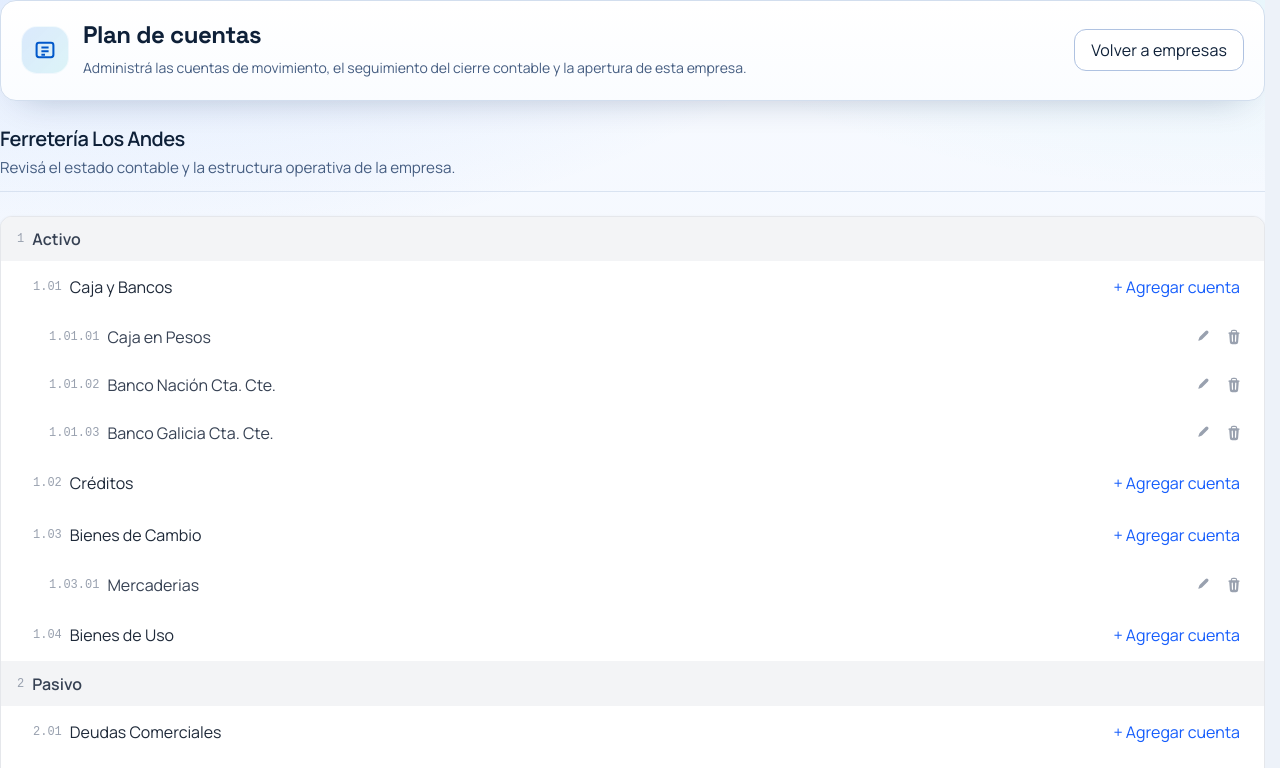
Test case: CompanyDetailPage › creates a movement account under a collective account
Expected: the text "Caja y Bancos" is shown, [70,274,172,298]
Click the button "+ Agregar cuenta" in the row of "Caja y Bancos" at coordinates (1177, 286), box [1105,270,1248,302]
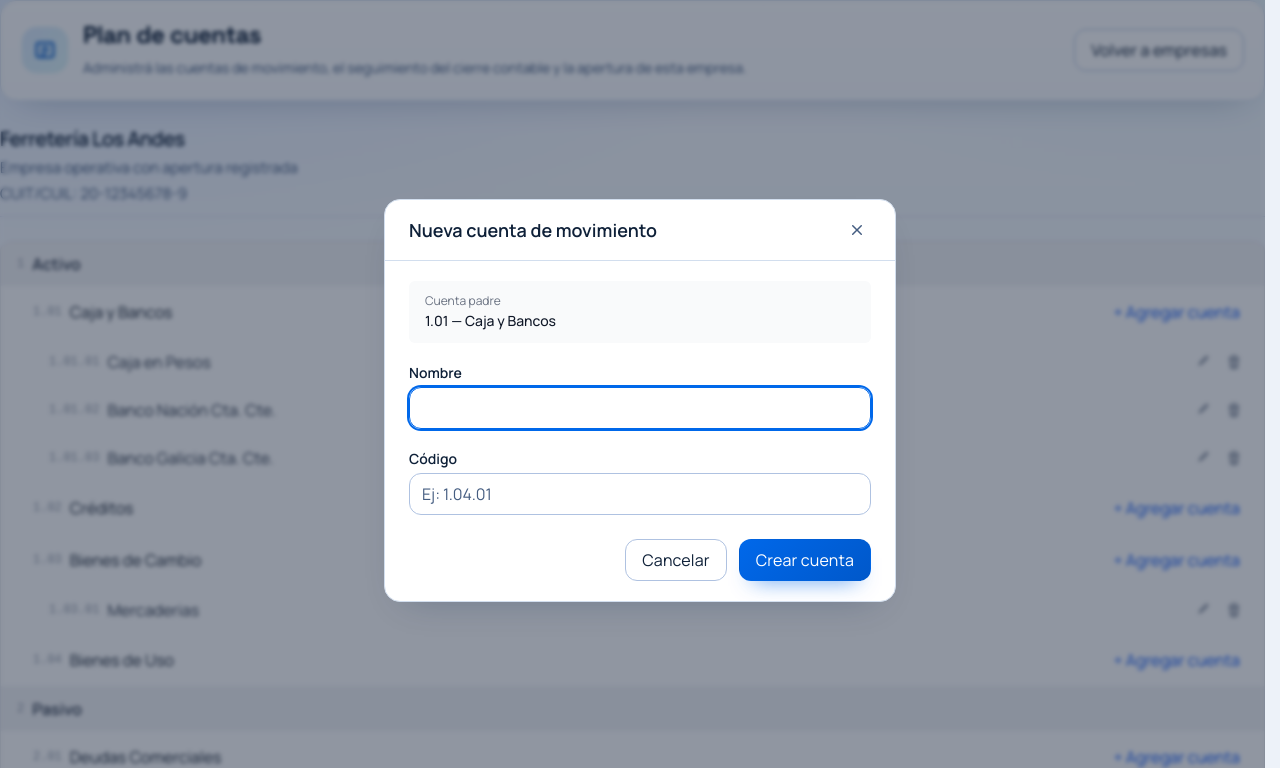
Type "Caja secundaria" into the field labelled "Nombre" at coordinates (640, 408), box [409,386,871,428]
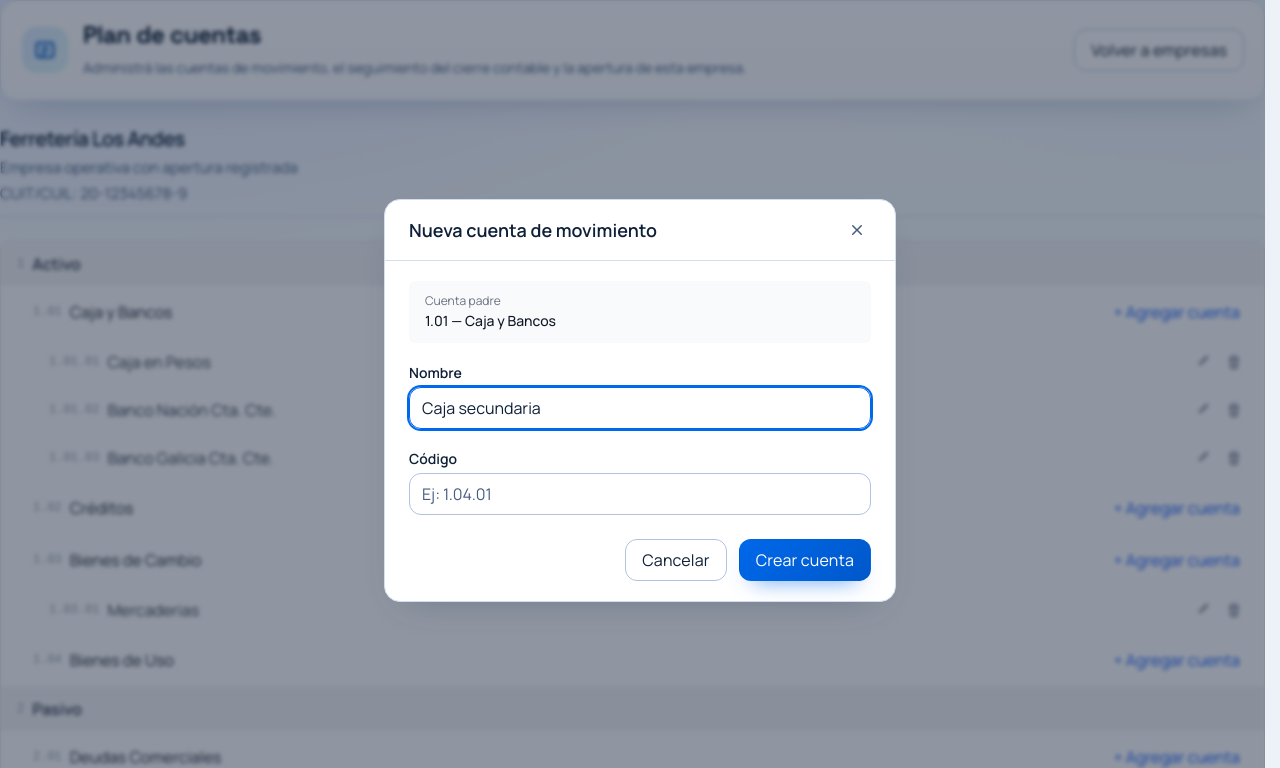
Type "1.01.03" into the field labelled "Código" at coordinates (640, 494), box [409,472,871,514]
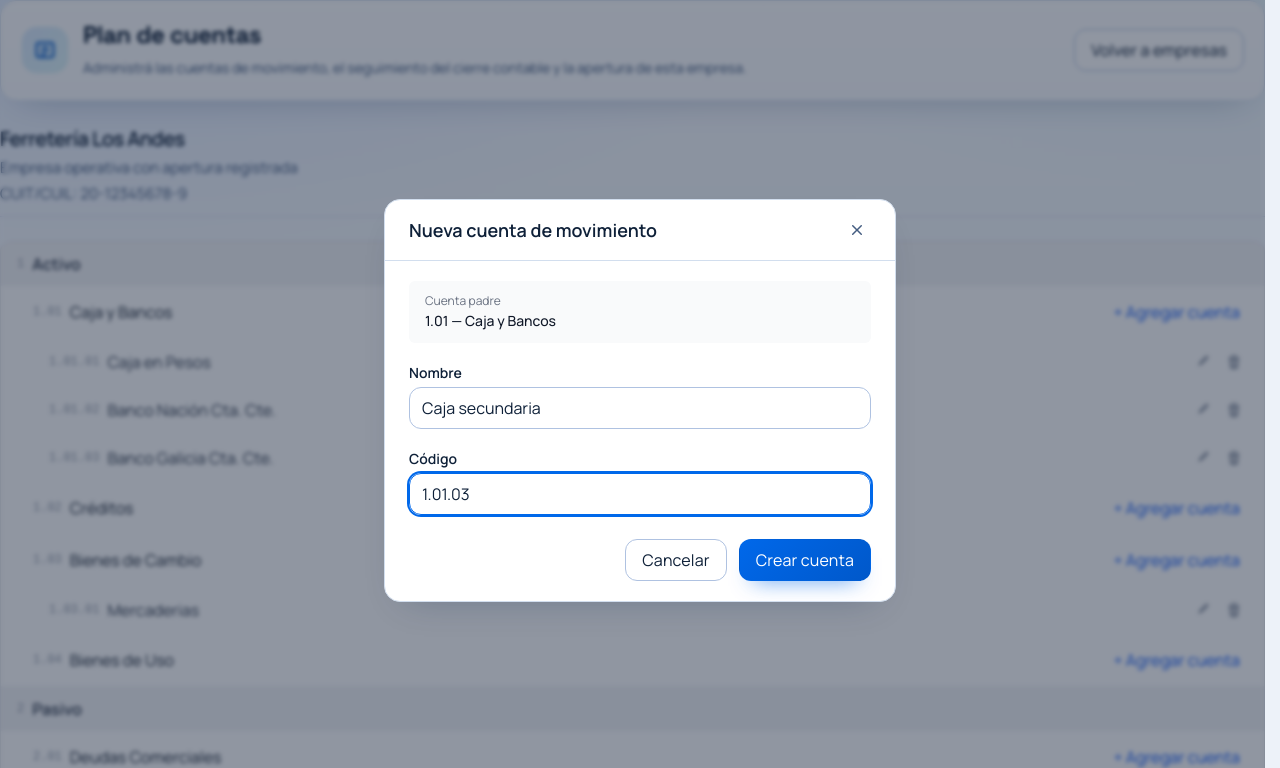
Click the button "Crear cuenta" at coordinates (805, 560), box [739,538,871,580]
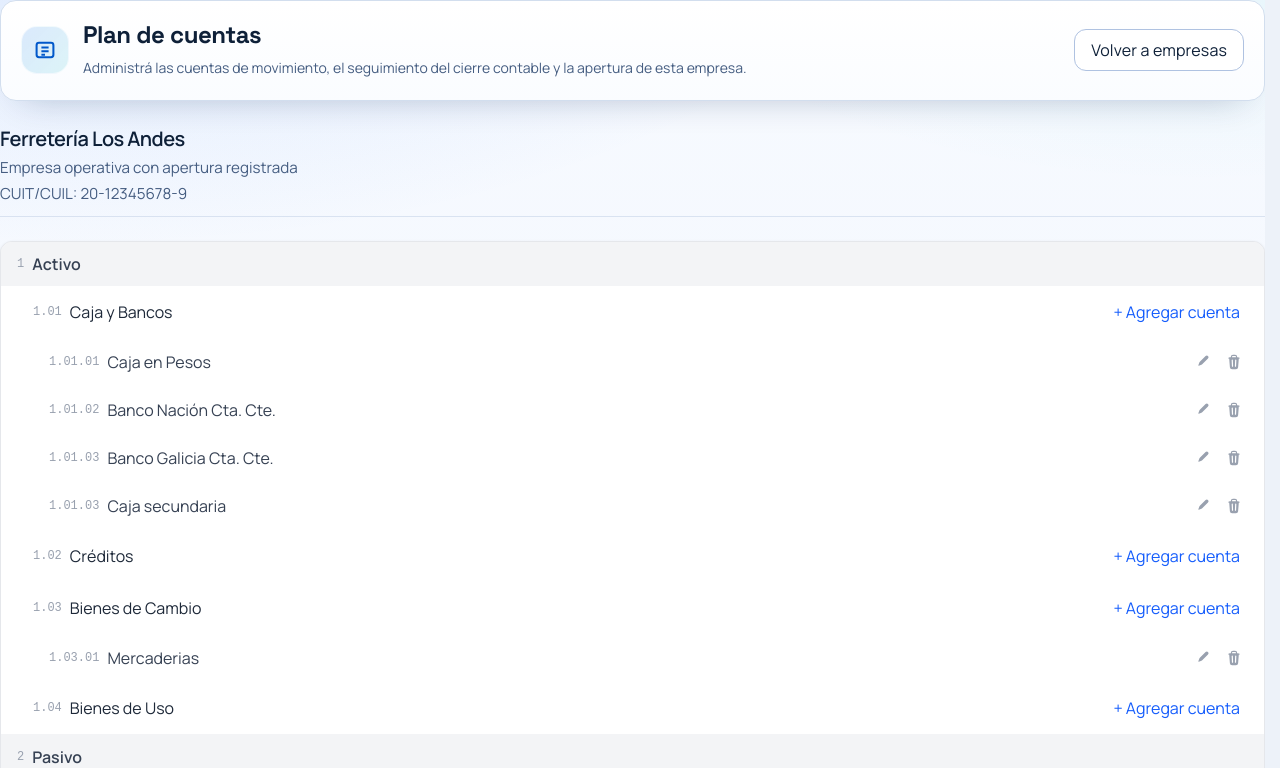
Expected: the text "Caja secundaria" is shown, [107,494,226,518]
